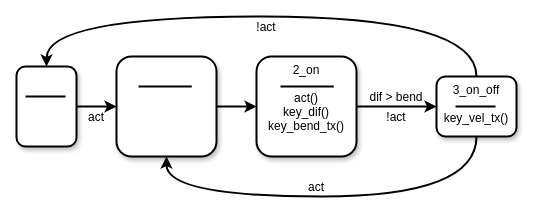
Some shapes in this 533 by 213 pixel diagram are drawn without their labels. The shapes that lost their labels are listed below. From the top down, each one's centre as x and y in pixels, then its label:
(47,107): 0_off act() vel()
(167,107): 1_off_on key_frac() frac_bend_tx() key_vel_tx()
